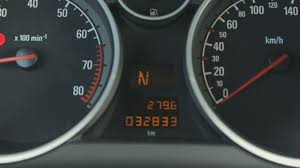Digital_Meter: (114, 113, 184, 131)
